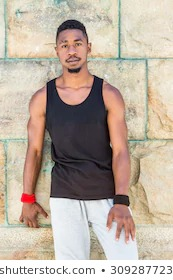C_tank top: (42, 71, 125, 201)
